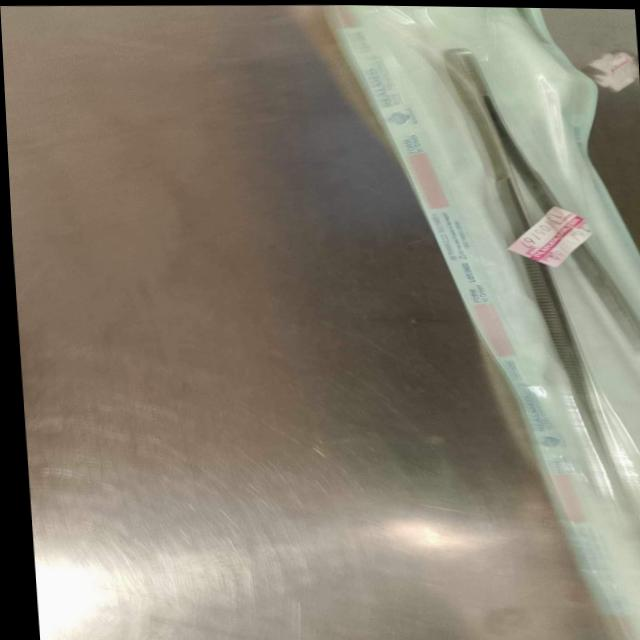General: (1, 4, 638, 639)
Infectious: (319, 5, 639, 638)
Sharps: (440, 45, 639, 524)
